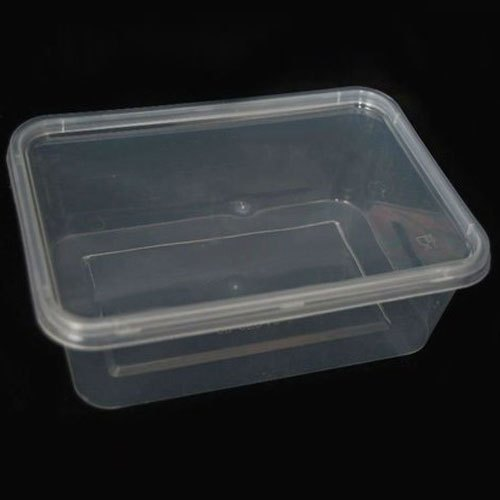PlasticBox: (3, 82, 500, 413)
